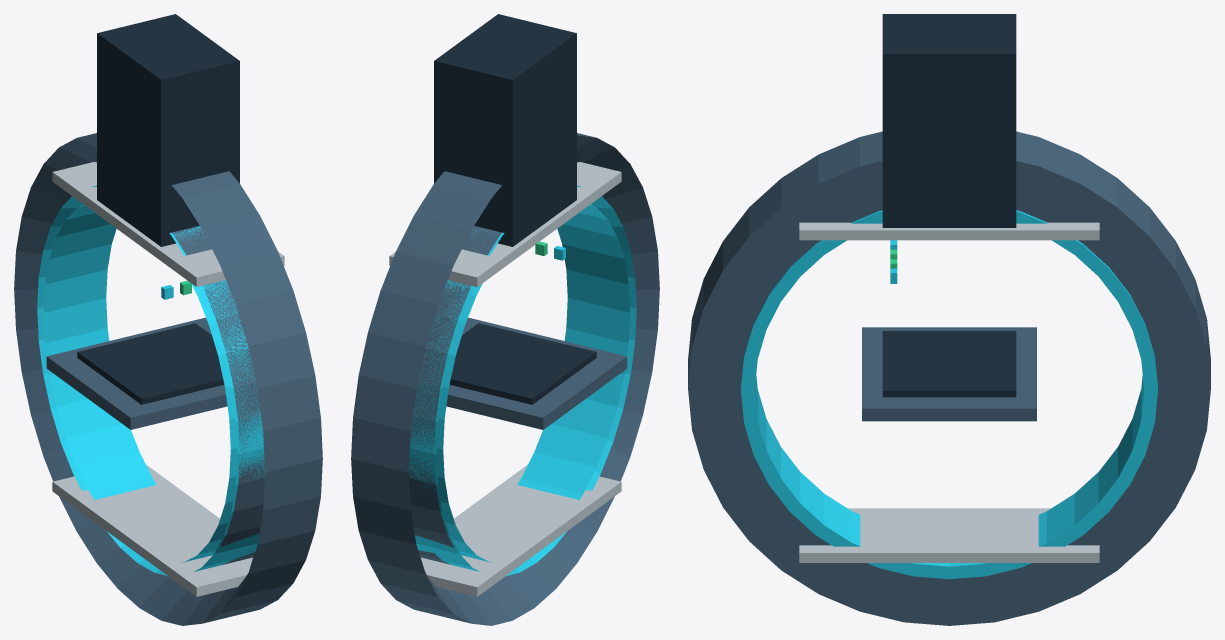
The model's file is 06_L78_PrecisionVacuumGateValve.fbx.
The picture shows the model from 3 angles, left to right: view 1: azimuth 30°, elevation 25°; view 2: azimuth 150°, elevation 25°; view 3: azimuth 270°, elevation 25°; orthographic projection. The views are drawn at different scales.
Visible parts, largest first — view 1: PrecisionVacuumGateValve, PrecisionVacuumGateValve_Part_0006, PrecisionVacuumGateValve_Part_0005; view 2: PrecisionVacuumGateValve, PrecisionVacuumGateValve_Part_0006, PrecisionVacuumGateValve_Part_0005; view 3: PrecisionVacuumGateValve, PrecisionVacuumGateValve_Part_0006, PrecisionVacuumGateValve_Part_0005.
Boxes of the visible parts, left/top/right/bottom form: PrecisionVacuumGateValve: left=14, top=14, right=322, bottom=625; PrecisionVacuumGateValve_Part_0006: left=77, top=323, right=224, bottom=404; PrecisionVacuumGateValve_Part_0005: left=46, top=317, right=227, bottom=429; PrecisionVacuumGateValve: left=351, top=14, right=659, bottom=625; PrecisionVacuumGateValve_Part_0006: left=449, top=323, right=596, bottom=404; PrecisionVacuumGateValve_Part_0005: left=446, top=317, right=627, bottom=429; PrecisionVacuumGateValve: left=688, top=14, right=1210, bottom=625; PrecisionVacuumGateValve_Part_0006: left=882, top=331, right=1016, bottom=397; PrecisionVacuumGateValve_Part_0005: left=862, top=327, right=1036, bottom=421.
Size of the model in its own units: 69 by 229 by 188.
